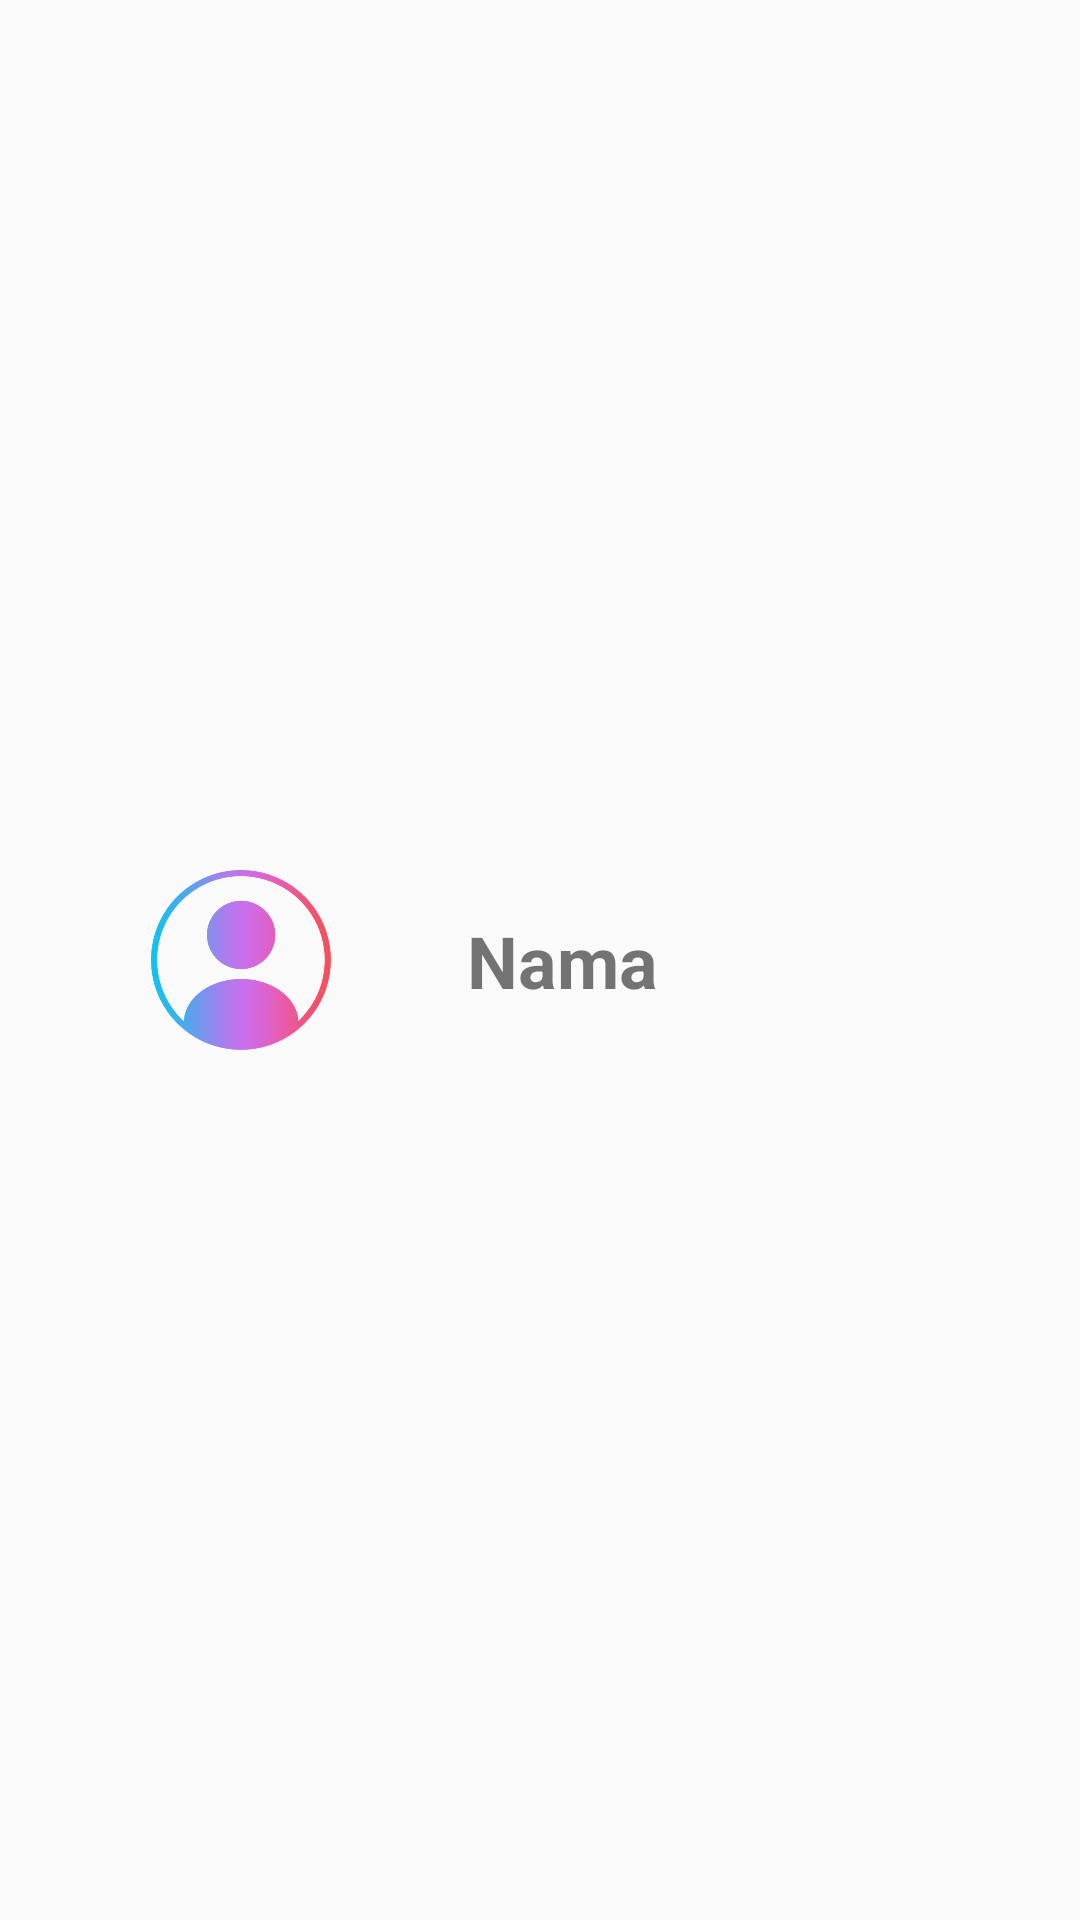

Named icons in this screenshot (1080 x 1920) and their bounding boxes, BBox(x1, y1, x2, y2):
user: BBox(151, 870, 331, 1050)
